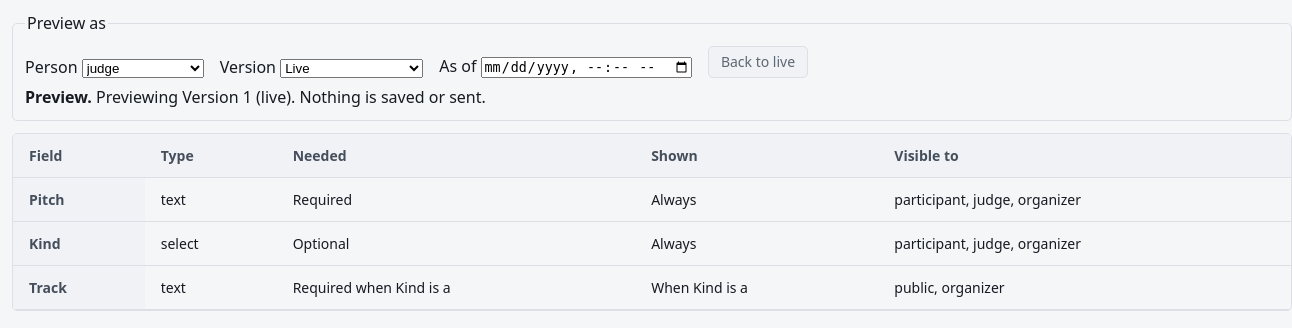
Test: FormPreviewAs › sends the chosen person and draws the answer, saying how many fields were hidden
Select "judge" in the dropdown labelled "Person": (143, 68) [82,59,204,78]
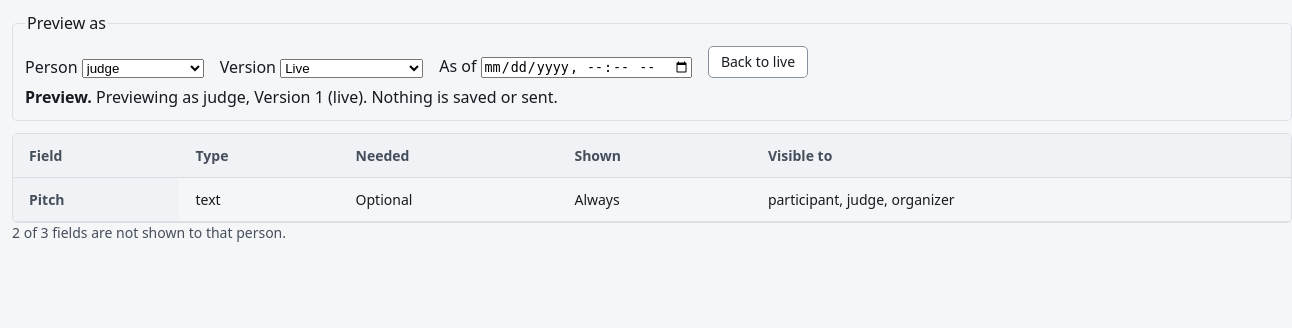
Result: the text "Previewing as judge" is shown at [96,86,558,108]
Result: the text "2 of 3 fields are not shown to that person." is shown at [12,223,286,242]
